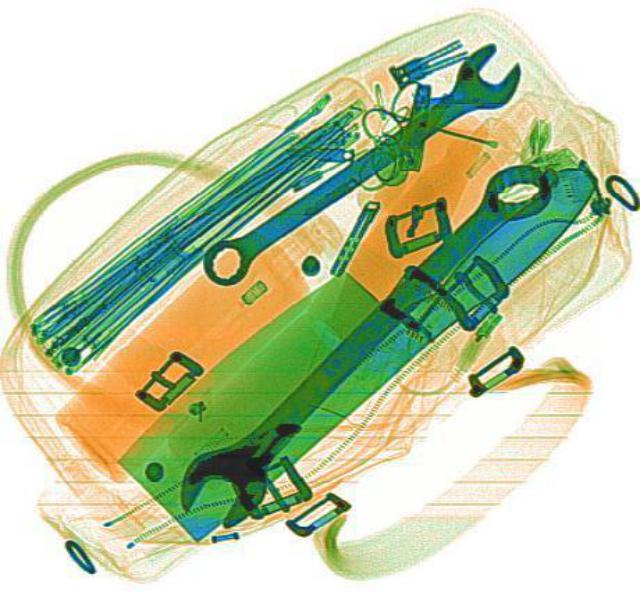Knife: (99, 107, 614, 543)
Wrench: (157, 144, 568, 538), (185, 36, 535, 295)
